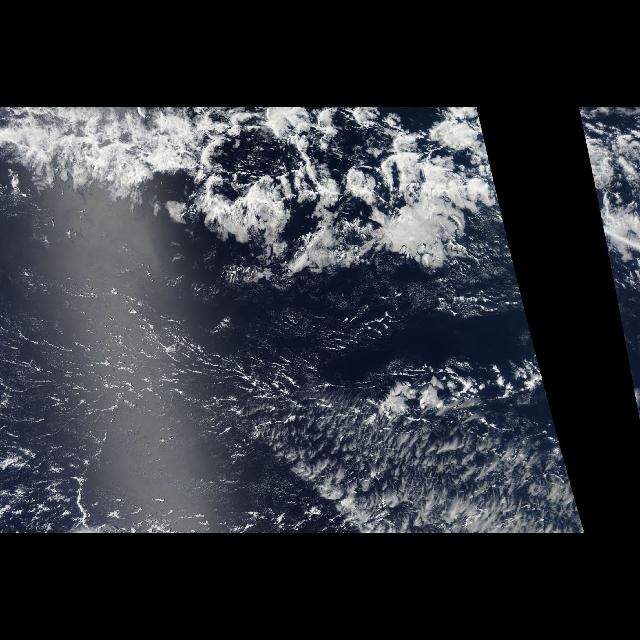Sugar: (12, 252, 332, 528)
